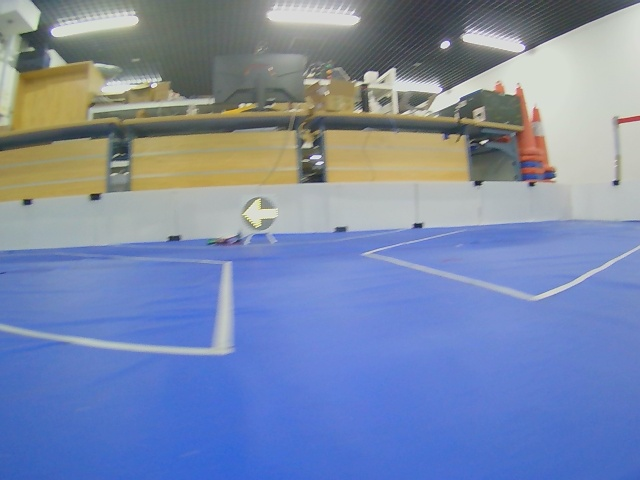left_yellow: (242, 197, 278, 231)
